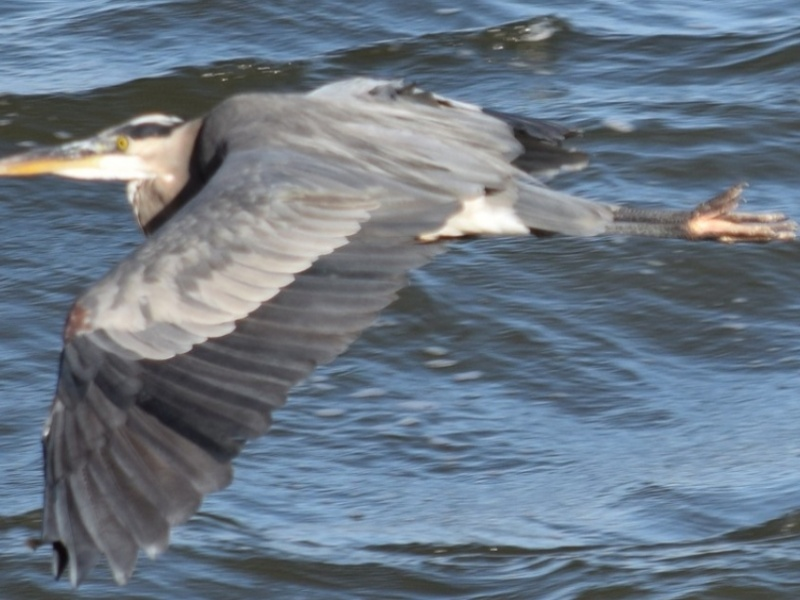heron: (4, 66, 794, 585)
